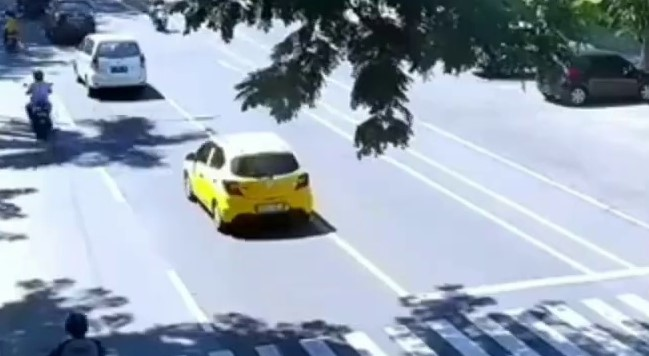car: (180, 131, 314, 239), (539, 46, 649, 111), (72, 32, 148, 102), (42, 2, 96, 47)
motorbike: (26, 67, 55, 143), (4, 13, 20, 54)
